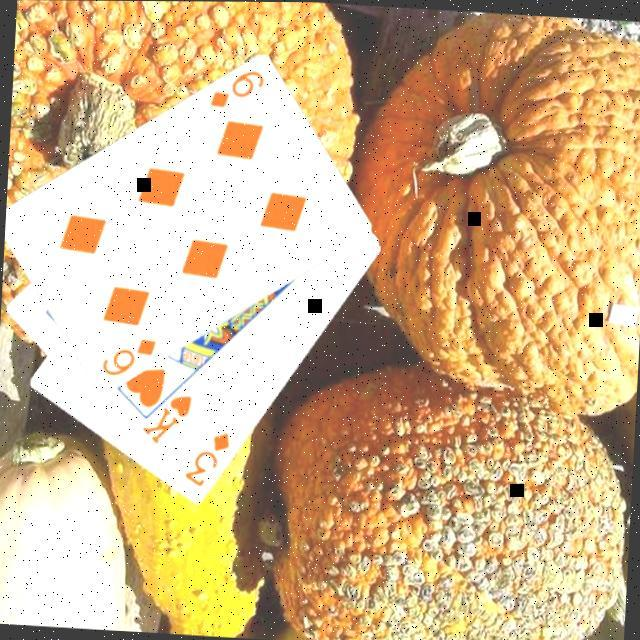3D: (181, 427, 234, 493)
6D: (207, 66, 270, 115), (98, 334, 160, 383)
KH: (138, 389, 196, 450)
